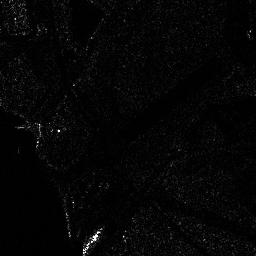ship: (81, 226, 105, 255)
